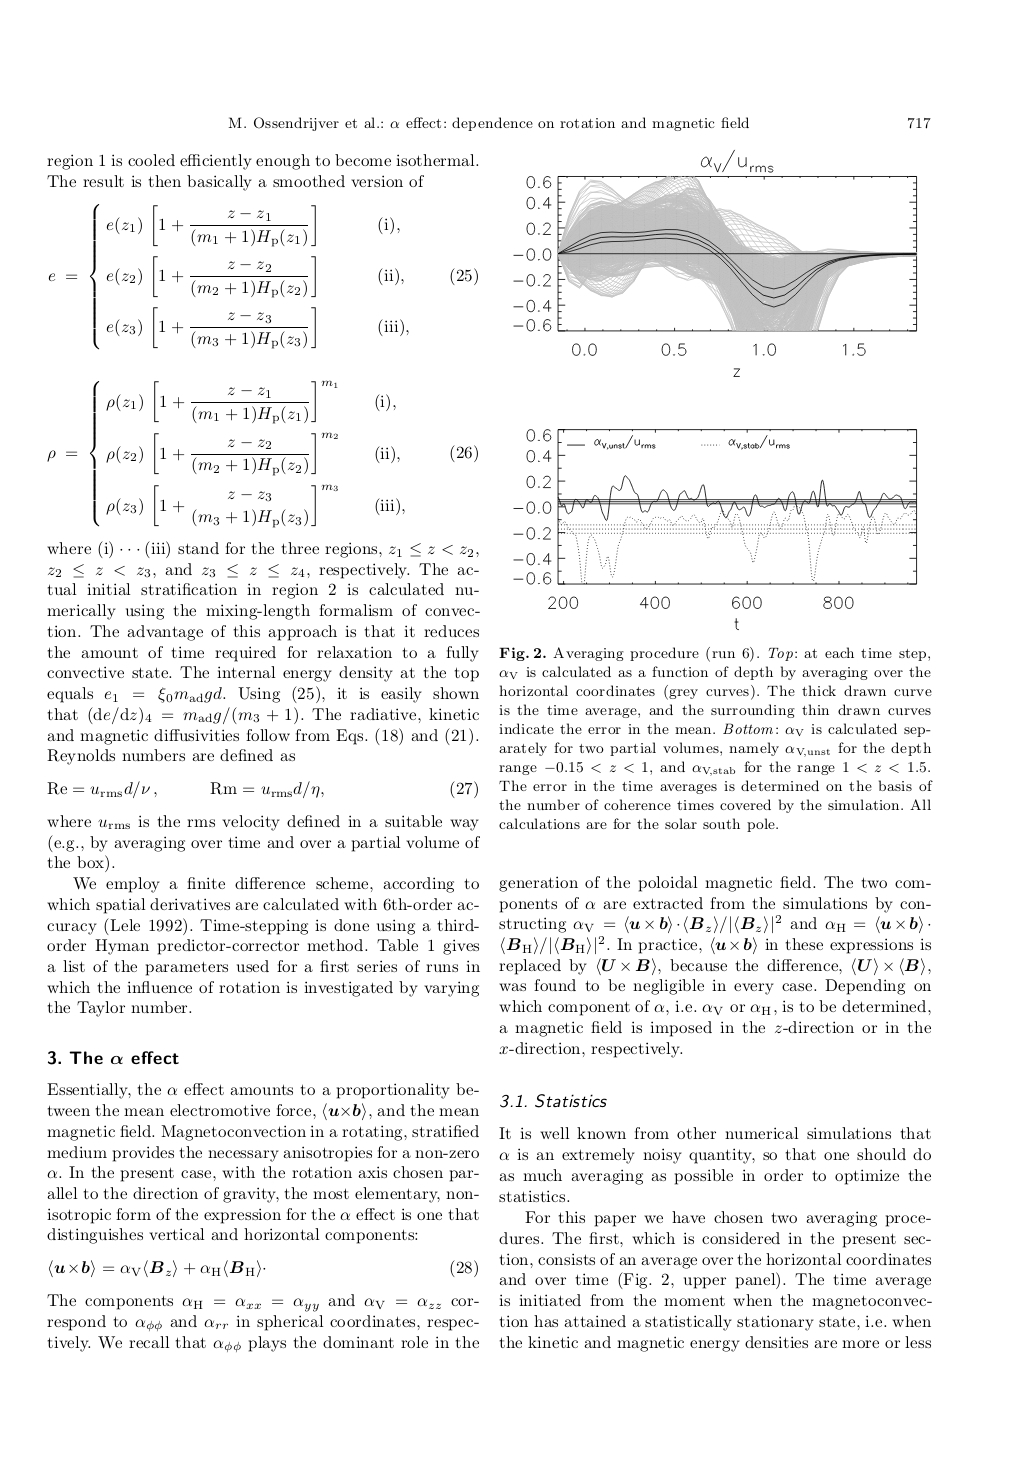figure: (513, 429, 917, 630), (513, 176, 917, 376)
formula: (47, 379, 476, 528), (48, 202, 476, 350), (47, 780, 476, 799), (49, 1259, 476, 1278)
